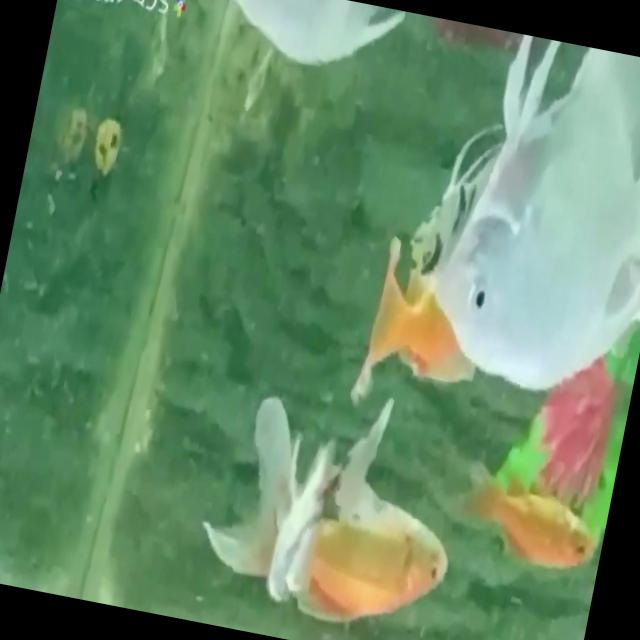GoldFish: (179, 376, 480, 640), (452, 439, 614, 588), (360, 250, 496, 390)
